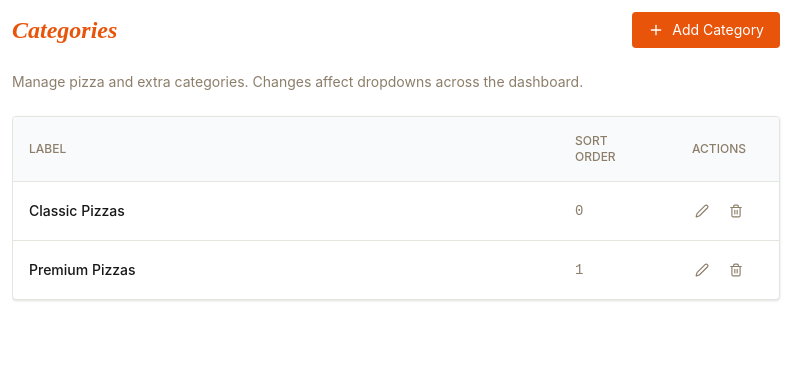
Test: CategoriesClient › opens add form when clicking Add Category
Click the button "Add Category" at {"x": 706, "y": 30}, box [632, 12, 780, 48]
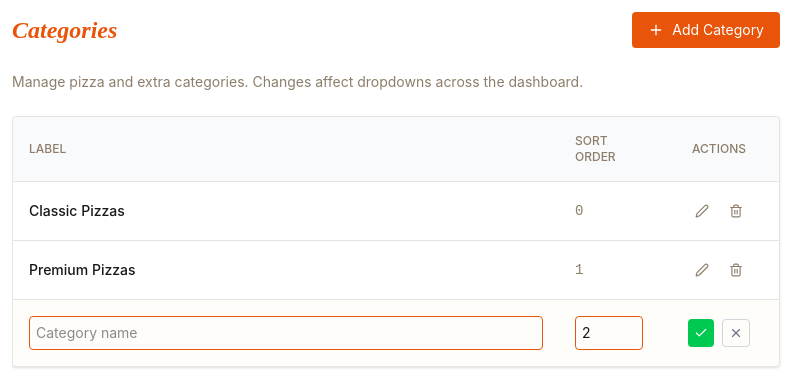
Expected: the field with placeholder "Category name" is shown, [29, 316, 543, 350]
